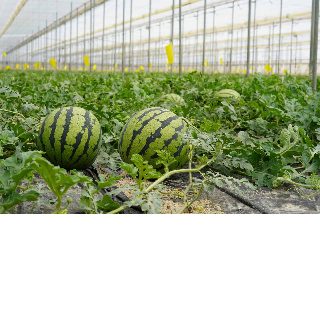dua_hau: (119, 104, 192, 176), (37, 103, 103, 176)
